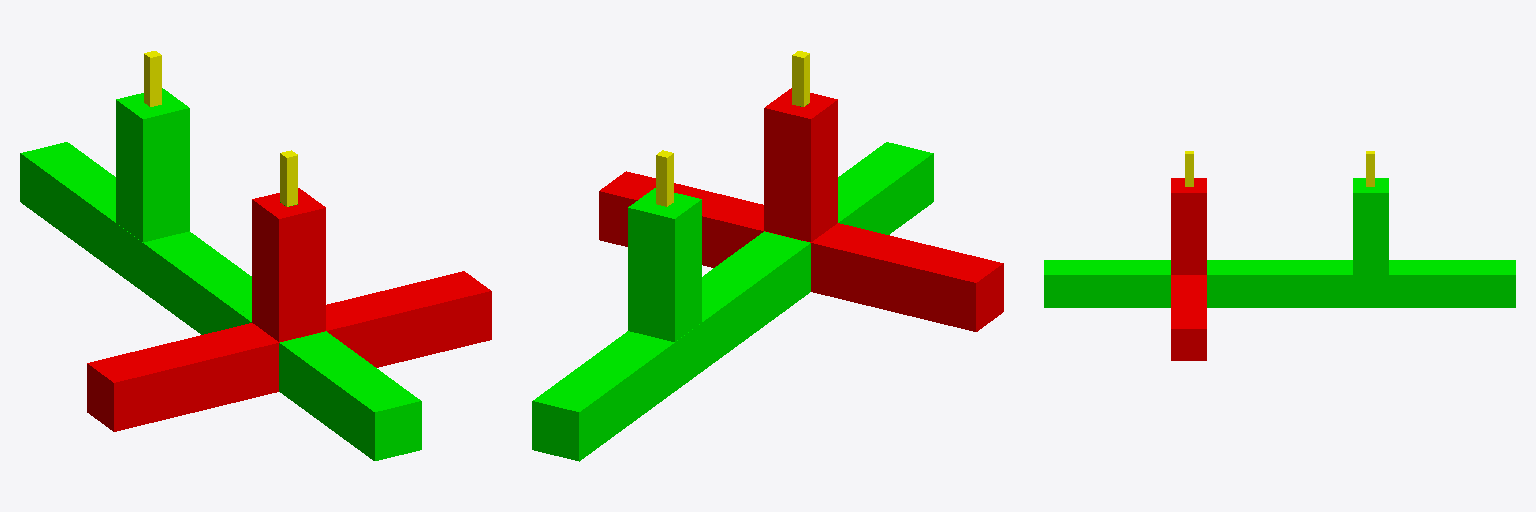
robot.urdf — simple_sliders2:
<?xml version="1.0"?>
<!-- created with Phobos 1.0.1 "Capricious Choutengan" -->
  <robot name="simple_sliders2">

    <link name="base_link">
    </link>

    <link name="goal">
      <visual name="visual_box_0_link_0.001">
        <origin xyz="0 0 0" rpy="0 0 0"/>
        <geometry>
          <box size="1.5974 0.1988 0.1988"/>
        </geometry>
        <material name="green_translucent"/>
      </visual>
    </link>

    <link name="link_0_joint_0">
      <visual name="visual_box_0_link_0">
        <origin xyz="0 0 0" rpy="0 0 0"/>
        <geometry>
          <box size="1.599 0.199 0.199"/>
        </geometry>
        <material name="green"/>
      </visual>
      <collision name="collision_box_0_link_0">
        <origin xyz="0 0 0" rpy="0 0 0"/>
        <geometry>
          <box size="1.599 0.199 0.199"/>
        </geometry>
      </collision>
    </link>

    <link name="link_1_joint_0">
      <visual name="visual_box_3_link_1">
        <origin xyz="0 0 0" rpy="0 0 0"/>
        <geometry>
          <box size="1.599 0.199 0.199"/>
        </geometry>
        <material name="red"/>
      </visual>
      <collision name="collision_box_3_link_1">
        <origin xyz="0 0 0" rpy="0 0 0"/>
        <geometry>
          <box size="1.599 0.199 0.199"/>
        </geometry>
      </collision>
    </link>

    <link name="link_fixed_1_handle_shaft">
      <visual name="visual_box_fixed_1_handle_shaft">
        <origin xyz="0 0 0" rpy="0 0 0"/>
        <geometry>
          <box size="0.199 0.199 0.499"/>
        </geometry>
        <material name="green"/>
      </visual>
      <collision name="collision_box_fixed_1_handle_shaft">
        <origin xyz="0 0 0" rpy="0 0 0"/>
        <geometry>
          <box size="0.199 0.199 0.499"/>
        </geometry>
      </collision>
    </link>

    <link name="link_fixed_1_handle_shaft.001">
      <visual name="visual_box_fixed_1_handle_shaft.001">
        <origin xyz="0 0 0" rpy="0 0 0"/>
        <geometry>
          <box size="0.1988 0.1988 0.4985"/>
        </geometry>
        <material name="green_translucent"/>
      </visual>
    </link>

    <link name="link_fixed_2_handle_knob">
      <visual name="visual_box_fixed_2_handle_knob">
        <origin xyz="0 0 0" rpy="0 0 0"/>
        <geometry>
          <box size="0.049 0.049 0.199"/>
        </geometry>
        <material name="yellow"/>
      </visual>
      <collision name="collision_box_fixed_2_handle_knob">
        <origin xyz="0 0 0" rpy="0 0 0"/>
        <geometry>
          <box size="0.049 0.049 0.199"/>
        </geometry>
      </collision>
    </link>

    <link name="link_fixed_2_handle_knob.001">
      <visual name="visual_box_fixed_2_handle_knob.001">
        <origin xyz="0 0 0" rpy="0 0 0"/>
        <geometry>
          <box size="0.04895 0.04895 0.1988"/>
        </geometry>
        <material name="green_translucent"/>
      </visual>
    </link>

    <link name="link_fixed_4_handle_shaft">
      <visual name="visual_box_fixed_4_handle_shaft">
        <origin xyz="0 0 0" rpy="0 0 0"/>
        <geometry>
          <box size="0.199 0.199 0.499"/>
        </geometry>
        <material name="red"/>
      </visual>
      <collision name="collision_box_fixed_4_handle_shaft">
        <origin xyz="0 0 0" rpy="0 0 0"/>
        <geometry>
          <box size="0.199 0.199 0.499"/>
        </geometry>
      </collision>
    </link>

    <link name="link_fixed_5_handle_knob">
      <visual name="visual_box_fixed_5_handle_knob">
        <origin xyz="0 0 0" rpy="0 0 0"/>
        <geometry>
          <box size="0.049 0.049 0.199"/>
        </geometry>
        <material name="yellow"/>
      </visual>
      <collision name="collision_box_fixed_5_handle_knob">
        <origin xyz="0 0 0" rpy="0 0 0"/>
        <geometry>
          <box size="0.049 0.049 0.199"/>
        </geometry>
      </collision>
    </link>

    <joint name="goal" type="fixed">
      <origin xyz="0 -1.0 0.1" rpy="0 0 -1.5708"/>
      <parent link="base_link"/>
      <child link="goal"/>
      <limit effort="0" velocity="0"/>
    </joint>

    <joint name="link_0_joint_0" type="prismatic">
      <origin xyz="0 0 0.1" rpy="0 0 -1.5708"/>
      <parent link="base_link"/>
      <child link="link_0_joint_0"/>
      <axis xyz="1.0 0 0"/>
      <limit lower="0" upper="1.0" effort="0" velocity="0"/>
    </joint>

    <joint name="link_1_joint_0" type="prismatic">
      <origin xyz="0 -1.0 0.1" rpy="0 0 0"/>
      <parent link="base_link"/>
      <child link="link_1_joint_0"/>
      <axis xyz="1.0 0 0"/>
      <limit lower="0" upper="1.0" effort="0" velocity="0"/>
    </joint>

    <joint name="link_fixed_1_handle_shaft" type="fixed">
      <origin xyz="0 0 0.35" rpy="0 0 0"/>
      <parent link="link_0_joint_0"/>
      <child link="link_fixed_1_handle_shaft"/>
    </joint>

    <joint name="link_fixed_1_handle_shaft.001" type="fixed">
      <origin xyz="0 0 0.34965" rpy="0 0 0"/>
      <parent link="goal"/>
      <child link="link_fixed_1_handle_shaft.001"/>
    </joint>

    <joint name="link_fixed_2_handle_knob" type="fixed">
      <origin xyz="0 0 0.35" rpy="0 0 0"/>
      <parent link="link_fixed_1_handle_shaft"/>
      <child link="link_fixed_2_handle_knob"/>
    </joint>

    <joint name="link_fixed_2_handle_knob.001" type="fixed">
      <origin xyz="0 0 0.34965" rpy="0 0 0"/>
      <parent link="link_fixed_1_handle_shaft.001"/>
      <child link="link_fixed_2_handle_knob.001"/>
    </joint>

    <joint name="link_fixed_4_handle_shaft" type="fixed">
      <origin xyz="0 0 0.35" rpy="0 0 0"/>
      <parent link="link_1_joint_0"/>
      <child link="link_fixed_4_handle_shaft"/>
    </joint>

    <joint name="link_fixed_5_handle_knob" type="fixed">
      <origin xyz="0 0 0.35" rpy="0 0 0"/>
      <parent link="link_fixed_4_handle_shaft"/>
      <child link="link_fixed_5_handle_knob"/>
    </joint>

    <material name="green">
      <color rgba="0 1.0 0 1.0"/>
    </material>

    <material name="green_translucent">
      <color rgba="0 1.0 0 0.25"/>
    </material>

    <material name="red">
      <color rgba="1.0 0 0 1.0"/>
    </material>

    <material name="yellow">
      <color rgba="1.0 1.0 0 1.0"/>
    </material>

  </robot>

--- Facts derived from the render (not from the file) ---
Views: 3 orthographic renders of the robot side by side, from view 1: azimuth 30°, elevation 25°; view 2: azimuth 150°, elevation 25°; view 3: azimuth 270°, elevation 25°.
Model simple_sliders2 with 10 links and 9 joints (2 prismatic, 7 fixed), rooted at base_link, posed every joint at zero.
Visible links, largest first — view 1: link_1_joint_0, link_0_joint_0, goal, link_fixed_1_handle_shaft, link_fixed_4_handle_shaft, link_fixed_2_handle_knob, link_fixed_5_handle_knob; view 2: link_0_joint_0, link_1_joint_0, link_fixed_1_handle_shaft, link_fixed_4_handle_shaft, goal, link_fixed_2_handle_knob, link_fixed_5_handle_knob; view 3: link_0_joint_0, goal, link_fixed_1_handle_shaft, link_fixed_4_handle_shaft, link_1_joint_0.
Link boxes in pixels (x1,y1,x2,y2): link_1_joint_0: (87, 271, 491, 431); link_0_joint_0: (20, 142, 251, 334); goal: (238, 310, 421, 460); link_fixed_1_handle_shaft: (116, 88, 189, 242); link_fixed_4_handle_shaft: (252, 188, 325, 341); link_fixed_2_handle_knob: (144, 51, 161, 106); link_fixed_5_handle_knob: (280, 150, 297, 206); link_0_joint_0: (532, 241, 796, 461); link_1_joint_0: (599, 171, 1003, 331); link_fixed_1_handle_shaft: (628, 188, 701, 341); link_fixed_4_handle_shaft: (764, 88, 837, 241); goal: (751, 142, 933, 301); link_fixed_2_handle_knob: (656, 150, 673, 206); link_fixed_5_handle_knob: (792, 51, 809, 106); link_0_joint_0: (1226, 260, 1515, 307); goal: (1044, 260, 1225, 307); link_fixed_1_handle_shaft: (1353, 178, 1388, 274); link_fixed_4_handle_shaft: (1171, 178, 1206, 274); link_1_joint_0: (1171, 275, 1206, 360).
Size in the robot's own frame: 1.6 by 2.6 by 0.899 metres.
Geometry: primitives only (box / cylinder / sphere), no mesh files.